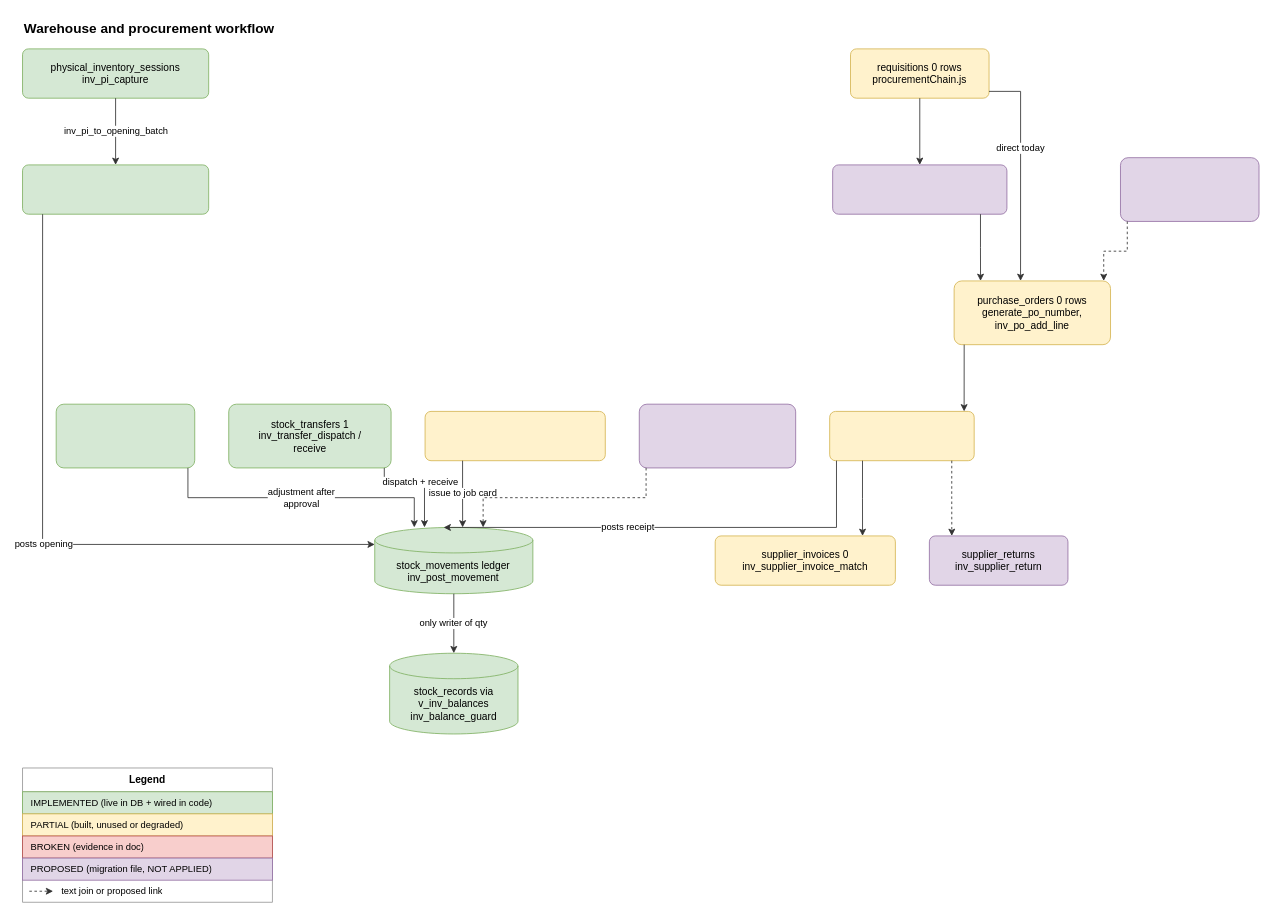
Some shapes in this 1274 by 917 pixel diagram are drawn without their labels. The shapes that lost their labels are listed below. From the top down, each one's centre as x and y in pixels, then its label:
the point at 115,189: opening_balance_lines 5,533 inv_opening_batch_approve
the point at 919,189: procurement_rfqs + quotes inv_rfq_create / award
the point at 1189,189: PO controls, limits guard_po_rules / guard_po_controls
the point at 125,435: inventory_audits 4 inv_count_submit, inv_audit_reconcile
the point at 514,436: material_issues 0 inv_issue / inv_issue_slip
the point at 717,435: scrap, lubricant, calibration inv_scrap_request etc.
the point at 901,436: goods_receipts 1 row inv_receive_goods
